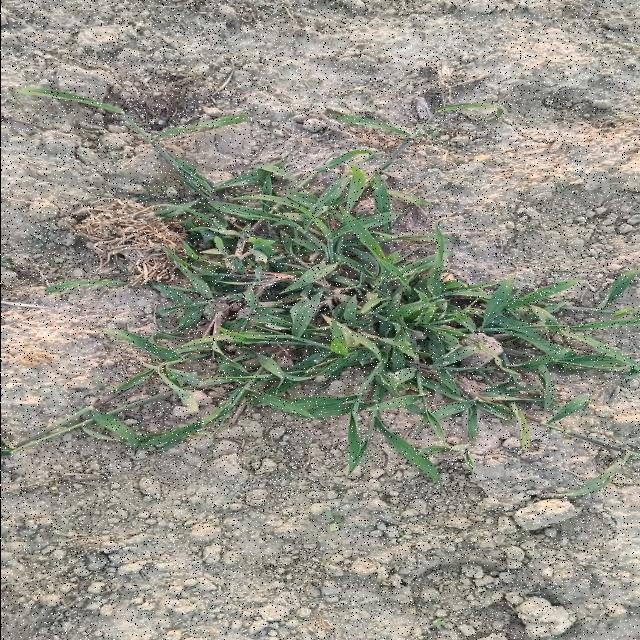weed: (106, 164, 637, 485)
